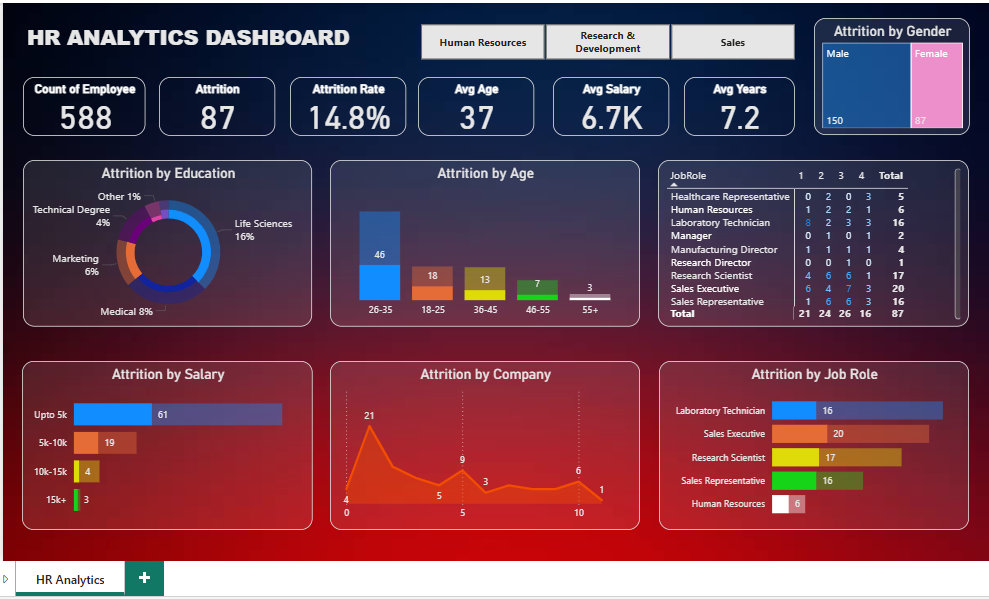

This screenshot's page, from the dashboard's own definition file:
{"tool":"powerbi","page":{"name":"Page 1","canvas":[1280,720],"ordinal":0},"visuals":[{"type":"card","title":"Count of Employee","fields":{"Values":["Count(HR_Analytics.EmpID)"]},"box":[26.4,95.1,158.5,75.7],"z":0},{"type":"card","title":"Attrition","fields":{"Values":["Sum(HR_Analytics.AttritionCount)"]},"box":[200.7,95.1,149.7,75.7],"z":1000},{"type":"card","title":"Attrition Rate","fields":{"Values":["HR_Analytics.AttritionRate"]},"box":[369.7,95.1,149.7,75.7],"z":2000},{"type":"card","title":"Avg Age","fields":{"Values":["Avg(HR_Analytics.Age)"]},"box":[535.2,95.1,149.7,75.7],"z":3000},{"type":"card","title":"Avg Years","fields":{"Values":["Avg(HR_Analytics.YearsAtCompany)"]},"box":[878.6,95.1,142.6,75.7],"z":4000},{"type":"card","title":"Avg Salary","fields":{"Values":["Avg(HR_Analytics.MonthlyIncome)"]},"box":[709.5,95.1,149.7,75.7],"z":5000},{"type":"donutChart","title":"Attrition by Education","fields":{"Category":["HR_Analytics.EducationField"],"Y":["Sum(HR_Analytics.AttritionCount)"]},"box":[26.4,202.5,373.3,214.8],"z":6000},{"type":"columnChart","title":"Attrition by Age","fields":{"Category":["HR_Analytics.AgeGroup"],"Y":["Sum(HR_Analytics.AttritionCount)"]},"box":[422.6,202.5,399.7,214.8],"z":7000},{"type":"pivotTable","fields":{"Rows":["HR_Analytics.JobRole"],"Columns":["HR_Analytics.JobSatisfaction"],"Values":["Sum(HR_Analytics.AttritionCount)"]},"box":[845.1,202.5,401.4,214.8],"z":8000},{"type":"barChart","title":"Attrition by Salary","fields":{"Category":["HR_Analytics.SalarySlab"],"Y":["Sum(HR_Analytics.AttritionCount)"]},"box":[24.6,461.3,375,218.3],"z":9000},{"type":"barChart","title":"Attrition by Job Role","fields":{"Y":["Sum(HR_Analytics.AttritionCount)"],"Category":["HR_Analytics.JobRole"]},"box":[846.9,461.3,399.7,218.3],"z":10000},{"type":"areaChart","title":"Attrition by Company","fields":{"Category":["HR_Analytics.YearsAtCompany"],"Y":["Sum(HR_Analytics.AttritionCount)"]},"box":[422.6,461.3,399.7,218.3],"z":11000},{"type":"treemap","title":"Attrition by Gender","fields":{"Values":["Sum(HR_Analytics.AttritionCount)"],"Group":["HR_Analytics.Gender"]},"box":[1045.8,19.4,200.7,151.4],"z":12000},{"type":"slicer","title":"Departments","fields":{"Values":["HR_Analytics.Department"]},"box":[513.4,20,532,58.6],"z":13000},{"type":"textbox","box":[25.7,20,463.4,60.1],"z":14000}]}

Visuals, with their boxes on the page's 1280x720 design canvas (x1, y1, x2, y2). These are canvas units, not pixel positions in the 989x599 screenshot, which may show the page scaled, cropped or inside an application window:
"Count of Employee" card: <box>26,95,185,171</box>
"Attrition" card: <box>201,95,350,171</box>
"Attrition Rate" card: <box>370,95,519,171</box>
"Avg Age" card: <box>535,95,685,171</box>
"Avg Years" card: <box>879,95,1021,171</box>
"Avg Salary" card: <box>710,95,859,171</box>
"Attrition by Education" donutChart: <box>26,202,400,417</box>
"Attrition by Age" columnChart: <box>423,202,822,417</box>
pivotTable - HR_Analytics.JobRole x HR_Analytics.JobSatisfaction: <box>845,202,1246,417</box>
"Attrition by Salary" barChart: <box>25,461,400,680</box>
"Attrition by Job Role" barChart: <box>847,461,1247,680</box>
"Attrition by Company" areaChart: <box>423,461,822,680</box>
"Attrition by Gender" treemap: <box>1046,19,1246,171</box>
"Departments" slicer: <box>513,20,1045,79</box>
textbox: <box>26,20,489,80</box>
